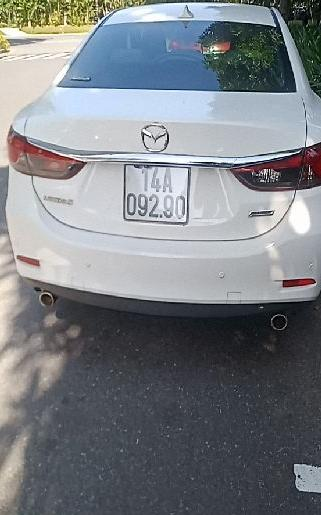Plate-iWeP: (123, 165, 188, 223)
